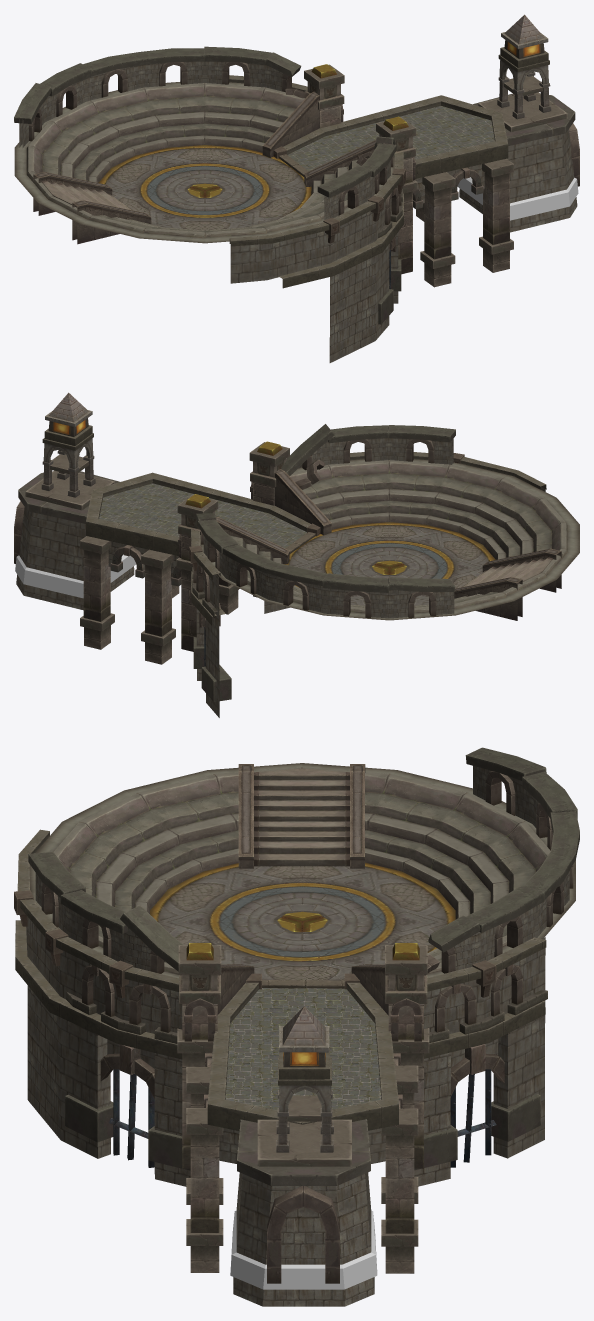
The model's file is building_city_zhuchengjingjichang.FBX.
3 renders of one model, top to bottom at view 1: azimuth 30°, elevation 25°; view 2: azimuth 150°, elevation 25°; view 3: azimuth 270°, elevation 25°, orthographic. The views are drawn at different scales.
Parts seen in each view (by area): view 1: building_city_zhuchengjingjichang01; view 2: building_city_zhuchengjingjichang01; view 3: building_city_zhuchengjingjichang01.
Part boxes in pixels (x1=…): building_city_zhuchengjingjichang01: x1=14, y1=14, x2=579, y2=362; building_city_zhuchengjingjichang01: x1=14, y1=392, x2=579, y2=717; building_city_zhuchengjingjichang01: x1=14, y1=747, x2=579, y2=1306.
Bounding box in the file's own units: 67.46 × 43.44 × 25.81.
